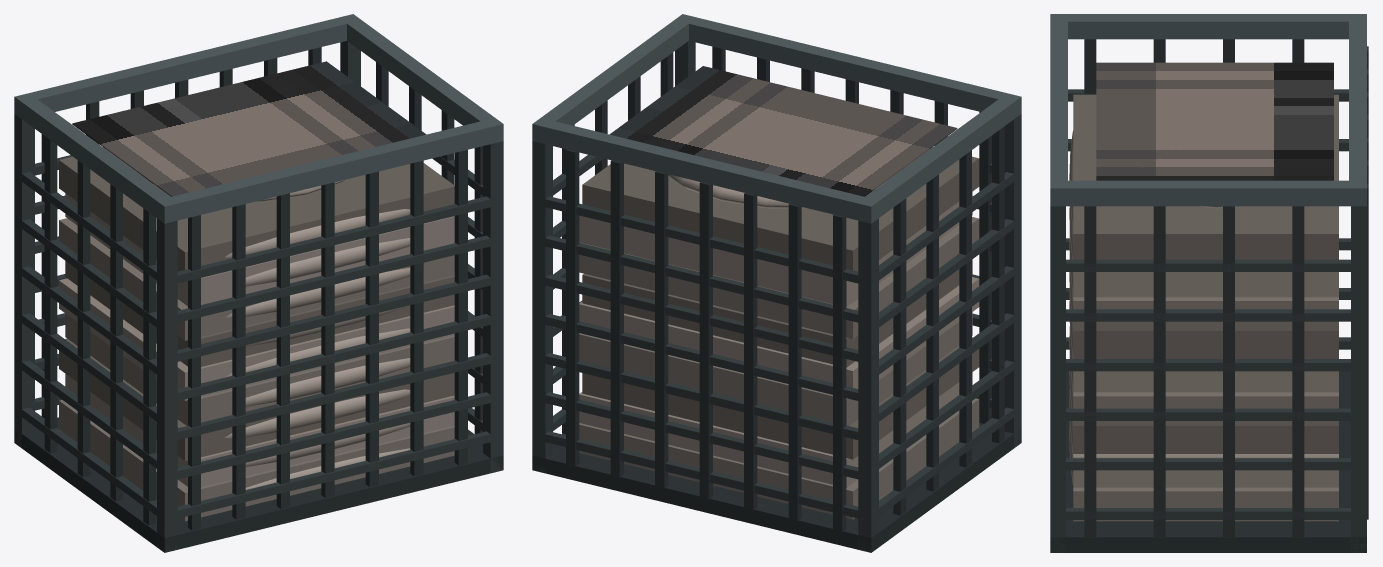
Rendered from CMU3DLinenBinFullCloud.glb.
3 views of the same model, side by side, from view 1: azimuth 30°, elevation 25°; view 2: azimuth 150°, elevation 25°; view 3: azimuth 270°, elevation 25° (orthographic). The views are drawn at different scales.
Visible parts, largest first — view 1: solid rolled upper rim (×4), original upper folded textile, square full height corner (×4), metal basket bottom, folded linen stack layer 8, folded linen stack layer 0, folded linen stack layer 3, folded linen stack layer 2, folded linen stack layer 7, folded linen stack layer 4, folded linen stack layer 6, folded linen stack layer 5 (+35 smaller); view 2: solid rolled upper rim (×4), original upper folded textile, square full height corner (×4), metal basket bottom, folded linen stack layer 8, folded linen stack layer 3, folded linen stack layer 0, folded linen stack layer 7, folded linen stack layer 6, folded linen stack layer 2, folded linen stack layer 4, folded linen stack layer 5 (+28 smaller); view 3: original upper folded textile, solid rolled upper rim (×4), folded linen stack layer 8, square full height corner (×2), metal basket bottom, folded linen stack layer 2, folded linen stack layer 5, folded linen stack layer 7, folded linen stack layer 1, folded linen stack layer 0, folded linen stack layer 6, folded linen stack layer 3 (+13 smaller).
Boxes of the visible parts, x1,y1,x2,y2 form: solid rolled upper rim (×4): [14, 14, 503, 223]; original upper folded textile: [72, 61, 426, 196]; square full height corner (×4): [14, 41, 503, 552]; metal basket bottom: [14, 417, 503, 552]; folded linen stack layer 8: [59, 148, 454, 271]; folded linen stack layer 0: [59, 400, 454, 521]; folded linen stack layer 3: [65, 313, 454, 425]; folded linen stack layer 2: [59, 338, 454, 460]; folded linen stack layer 7: [65, 193, 454, 306]; folded linen stack layer 4: [59, 278, 454, 400]; folded linen stack layer 6: [59, 218, 454, 340]; folded linen stack layer 5: [65, 261, 454, 366]; solid rolled upper rim (×4): [532, 14, 1021, 223]; original upper folded textile: [609, 66, 957, 196]; square full height corner (×4): [532, 41, 1021, 552]; metal basket bottom: [532, 423, 1021, 552]; folded linen stack layer 8: [582, 147, 979, 271]; folded linen stack layer 3: [579, 312, 972, 425]; folded linen stack layer 0: [579, 398, 979, 519]; folded linen stack layer 7: [579, 192, 972, 307]; folded linen stack layer 6: [579, 217, 979, 338]; folded linen stack layer 2: [582, 337, 979, 459]; folded linen stack layer 4: [579, 277, 979, 388]; folded linen stack layer 5: [582, 259, 972, 367]; original upper folded textile: [1096, 62, 1333, 180]; solid rolled upper rim (×4): [1050, 14, 1366, 206]; folded linen stack layer 8: [1073, 94, 1338, 259]; square full height corner (×2): [1050, 206, 1366, 552]; metal basket bottom: [1050, 371, 1366, 552]; folded linen stack layer 2: [1073, 426, 1338, 453]; folded linen stack layer 5: [1073, 331, 1338, 358]; folded linen stack layer 7: [1073, 272, 1338, 297]; folded linen stack layer 1: [1073, 454, 1338, 487]; folded linen stack layer 0: [1073, 487, 1338, 521]; folded linen stack layer 6: [1073, 297, 1338, 330]; folded linen stack layer 3: [1073, 392, 1338, 425].
Size of the model in its own units: 0.625 by 0.61 by 0.483.
10 materials, 1 textured.
